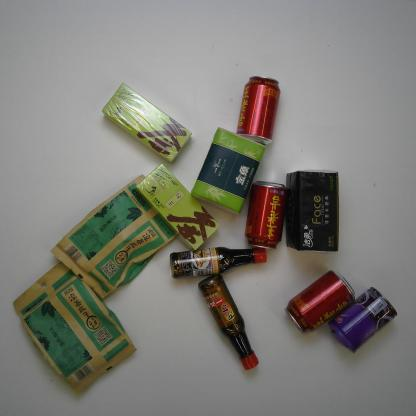Canned Food: (328, 286, 398, 354)
Dried Food: (12, 260, 139, 397), (48, 173, 178, 301)
Drink: (283, 269, 356, 334), (235, 74, 282, 146), (243, 180, 287, 250)
Instant Drink: (135, 162, 222, 250), (100, 82, 193, 164)
Seasoner: (198, 272, 260, 371), (168, 245, 268, 279)
Tissue: (190, 126, 266, 216), (283, 168, 341, 254)
